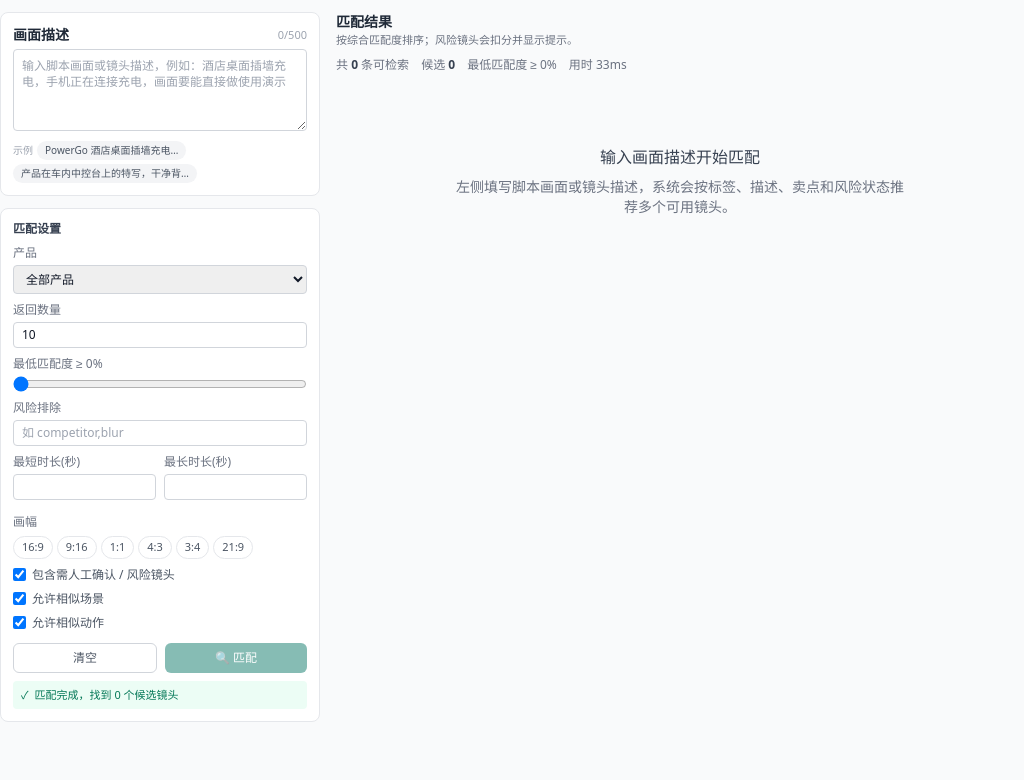
Test: DescriptionMatchView › 无达阈值结果给出降低阈值建议
Type "找不到的画面" into the text box with test id "desc-input". click: (160, 90)
box: [13,49,307,131]
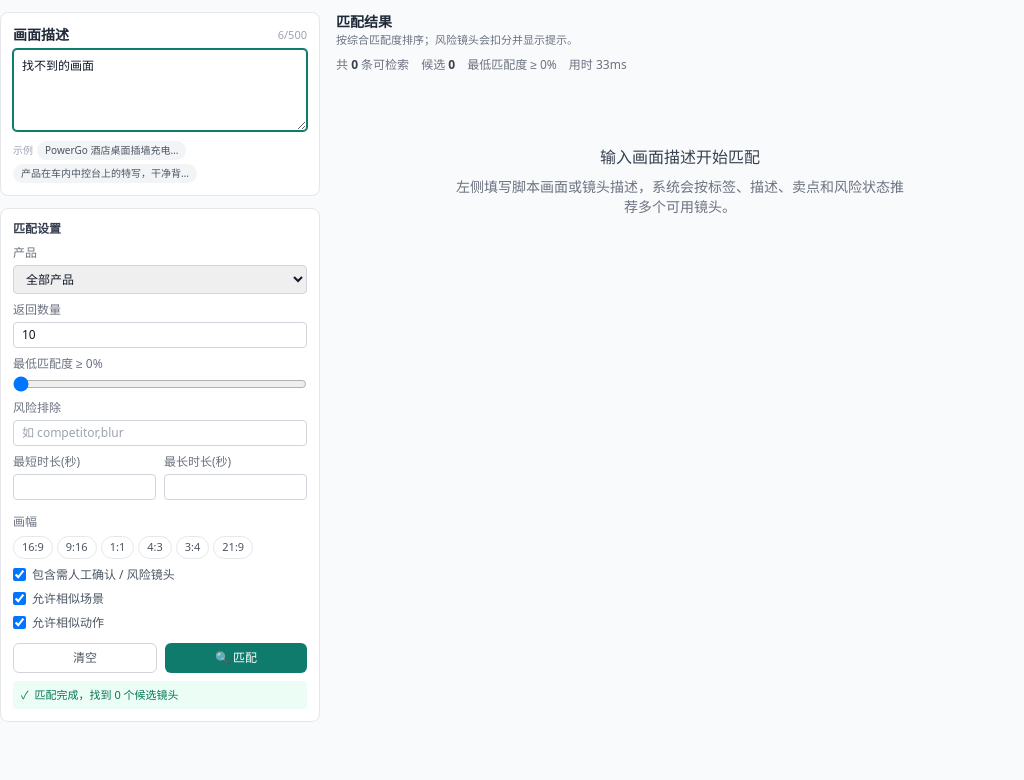
Click the button with test id "desc-match". click: (236, 658)
box: [165,642,307,672]
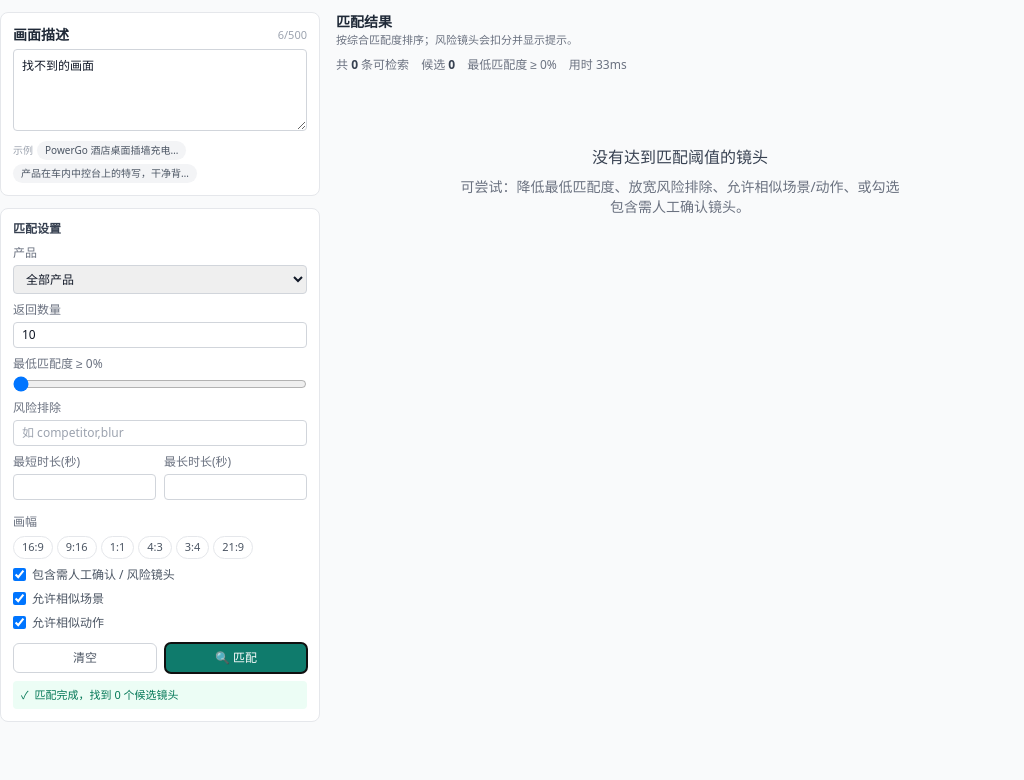
Check: the text "没有达到匹配阈值的镜头" is shown, box [592,144,768,168]
